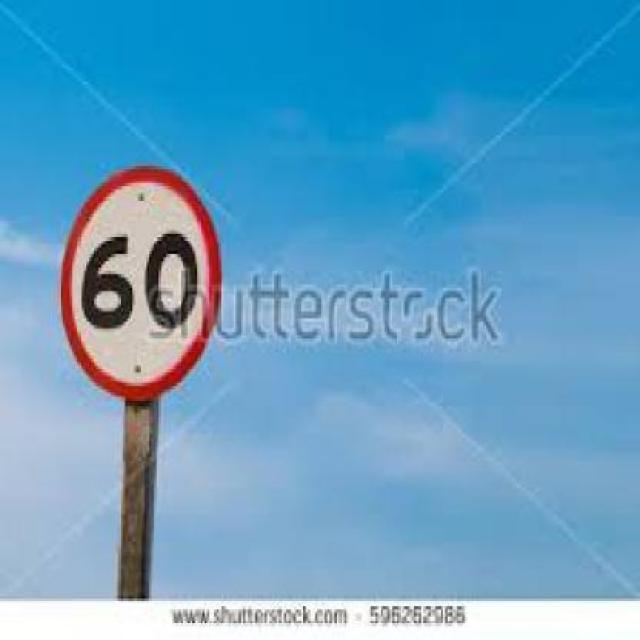forb_speed_over_60: (67, 169, 215, 389)
